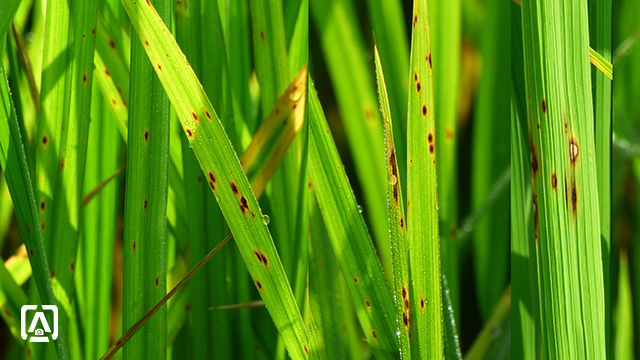Bercak Coklat: (566, 178, 583, 221), (388, 147, 400, 201), (253, 247, 272, 270), (137, 125, 157, 145), (102, 36, 121, 54), (37, 130, 55, 148), (237, 196, 253, 213), (537, 97, 552, 115), (548, 169, 559, 193), (187, 107, 202, 123), (78, 71, 91, 88), (228, 180, 241, 197), (36, 197, 50, 212), (426, 139, 437, 158), (425, 51, 436, 70), (141, 36, 155, 50), (423, 129, 435, 145), (418, 102, 431, 116), (399, 312, 410, 328), (199, 110, 216, 120), (129, 238, 141, 252), (369, 325, 378, 343), (206, 170, 222, 180), (152, 60, 166, 71), (139, 197, 150, 211), (362, 296, 373, 310), (185, 127, 197, 139), (412, 14, 422, 28), (399, 284, 408, 299), (410, 69, 421, 81), (418, 295, 426, 310), (151, 276, 162, 286), (256, 28, 266, 39), (415, 82, 425, 93), (402, 299, 409, 311), (398, 217, 404, 231)
Busuk Leher: (526, 135, 541, 179), (564, 134, 582, 168), (533, 193, 541, 239)
